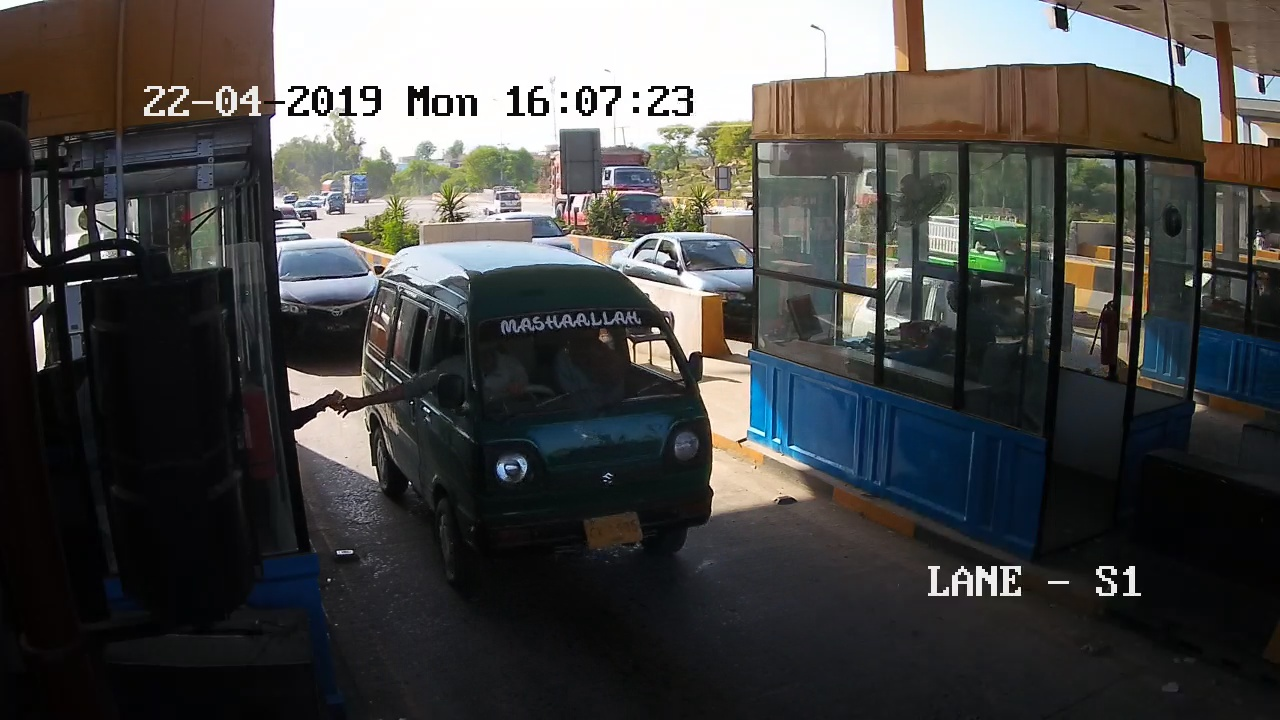Number Plate (Car): (583, 514, 641, 547)
